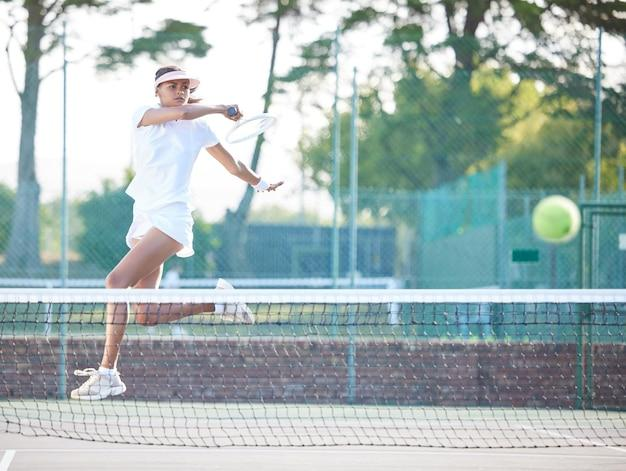ball_tennis: (530, 194, 583, 245)
